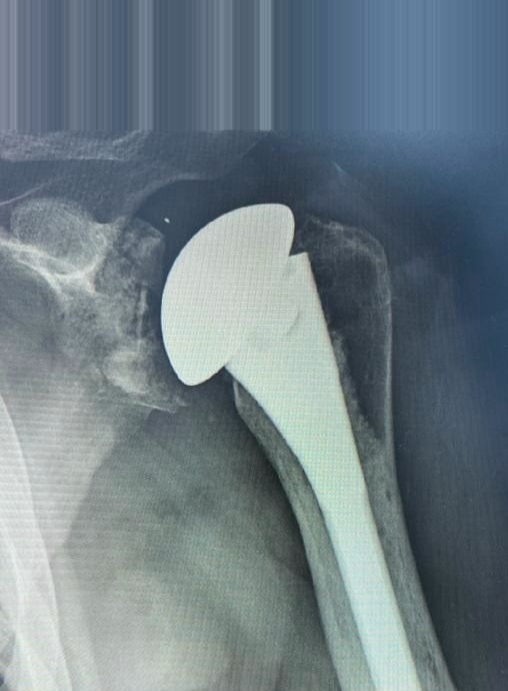Shoulder - Anotomical - Stryker: (141, 200, 346, 393)
